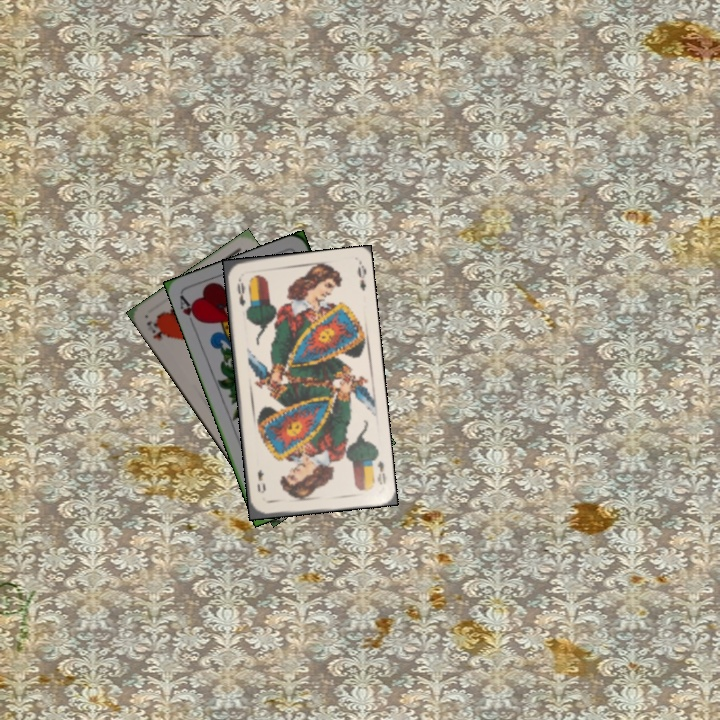EO: (368, 449, 388, 487), (233, 274, 248, 309)
HA: (175, 291, 203, 330)
HO: (142, 316, 171, 343)
